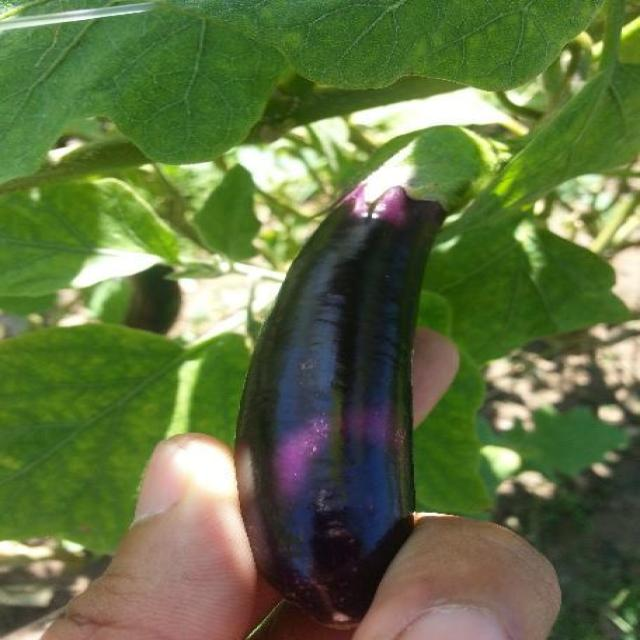eggplant: (234, 100, 479, 631)
